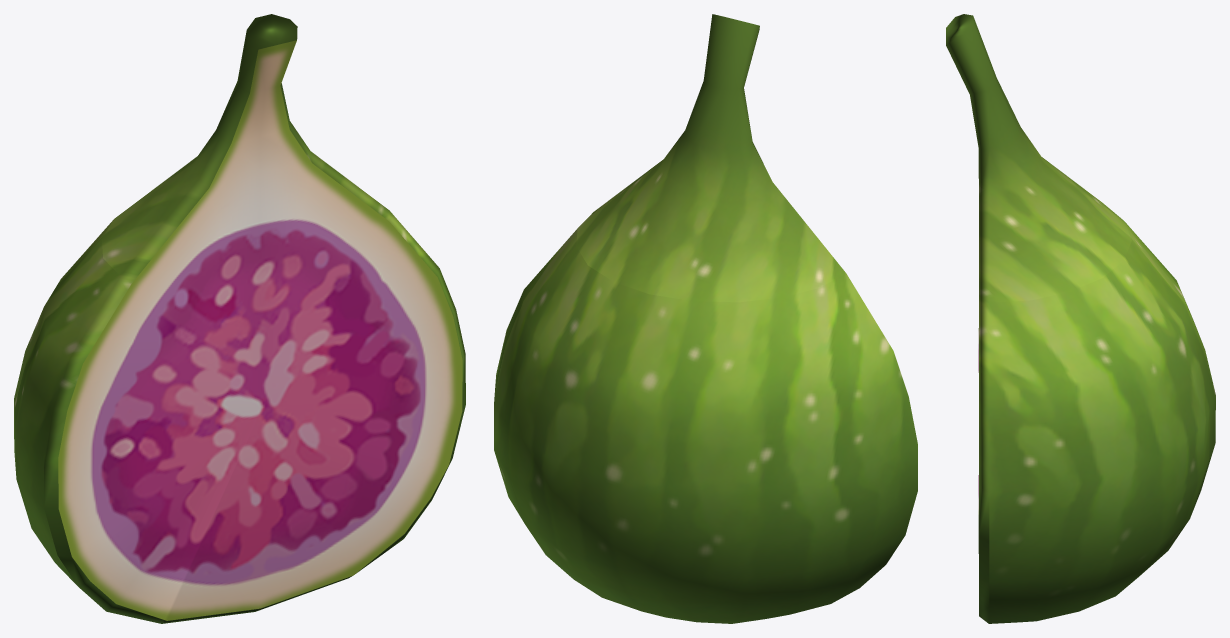
Rendered from Fig_Green_Half.fbx.
The picture shows the model from 3 angles, left to right: view 1: azimuth 30°, elevation 25°; view 2: azimuth 150°, elevation 25°; view 3: azimuth 270°, elevation 25°; orthographic projection. The views are drawn at different scales.
Parts seen in each view (by area): view 1: Fig_Green_Half; view 2: Fig_Green_Half; view 3: Fig_Green_Half.
Boxes of the visible parts, bbox=[...] form: Fig_Green_Half: bbox=[14, 14, 465, 623]; Fig_Green_Half: bbox=[494, 14, 917, 623]; Fig_Green_Half: bbox=[946, 14, 1215, 623].
Bounding box in the file's own units: 25.79 × 35.16 × 15.07.
